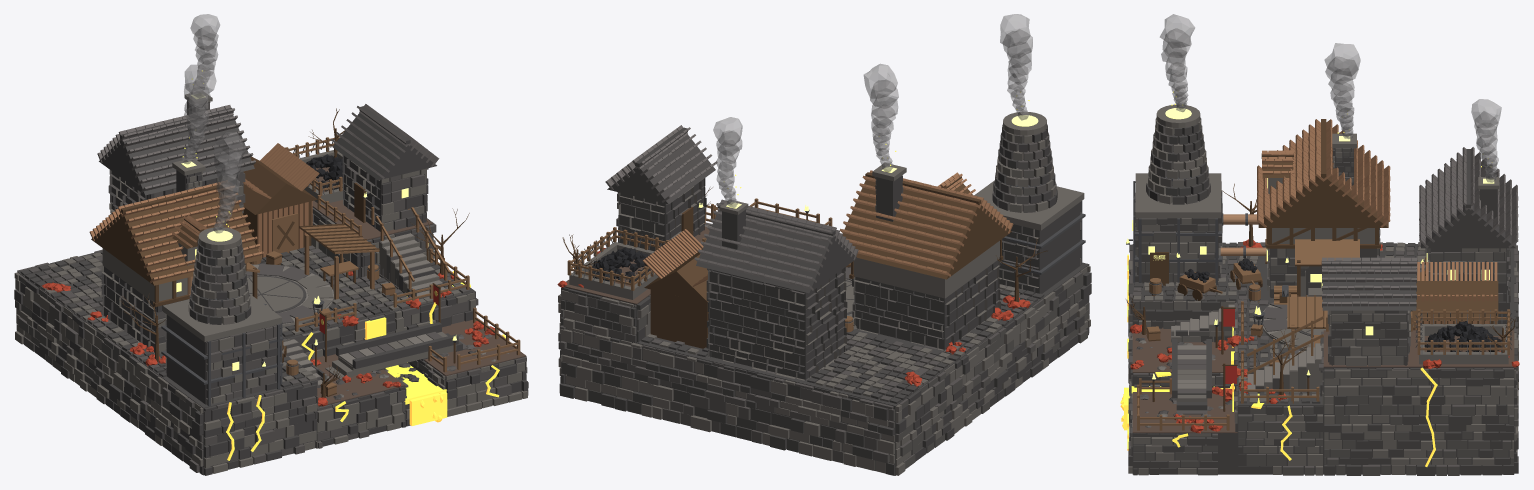
File: pueblo_fuego_diorama.glb
3 views of the same model, side by side, from view 1: azimuth 30°, elevation 25°; view 2: azimuth 150°, elevation 25°; view 3: azimuth 270°, elevation 25° (orthographic). The views are drawn at different scales.
Parts seen in each view (by area): view 1: Acantilados, Horno_Fundicion, Herreria_Techo, Empedrado, Casa_Piedra_Techo, Horno_Chimenea, Herreria, Terraza_Tierra, Torre_Techo, Torre_Plataforma, Puente_Piedra, Galpon_Techo (+20 smaller); view 2: Acantilados, Casa_Piedra, Herreria_Techo, Herreria, Casa_Piedra_Techo, Empedrado, Horno_Fundicion, Horno_Chimenea, Torre_Techo, Base_Roca, Torre_Plataforma, Galpon_Techo (+11 smaller); view 3: Acantilados, Herreria_Techo, Base_Roca, Horno_Fundicion, Casa_Piedra_Techo, Terraza_Tierra, Horno_Chimenea, Torre_Techo, Torre_Plataforma, Empedrado, Galpon_Techo, Herreria (+24 smaller).
Part boxes in pixels (x1,y1,x2,y2): Acantilados: (14,207,528,475); Horno_Fundicion: (161,293,283,406); Herreria_Techo: (89,180,263,285); Empedrado: (20,245,469,387); Casa_Piedra_Techo: (97,105,255,195); Horno_Chimenea: (188,227,251,324); Herreria: (101,248,246,353); Terraza_Tierra: (309,167,525,406); Torre_Techo: (331,104,439,180); Torre_Plataforma: (342,155,428,231); Puente_Piedra: (325,322,467,379); Galpon_Techo: (243,143,319,214); Acantilados: (558,224,1091,475); Casa_Piedra: (706,267,847,380); Herreria_Techo: (839,170,1013,279); Herreria: (849,239,1003,350); Casa_Piedra_Techo: (694,199,858,293); Empedrado: (641,222,1044,403); Horno_Fundicion: (974,180,1085,294); Horno_Chimenea: (992,112,1057,212); Torre_Techo: (605,125,717,204); Base_Roca: (561,225,1088,475); Torre_Plataforma: (616,178,706,251); Galpon_Techo: (642,229,708,303); Acantilados: (1128,242,1518,475); Herreria_Techo: (1257,119,1390,227); Base_Roca: (1132,244,1514,474); Horno_Fundicion: (1126,173,1222,285); Casa_Piedra_Techo: (1419,147,1518,248); Terraza_Tierra: (1132,327,1514,433); Horno_Chimenea: (1146,104,1210,204); Torre_Techo: (1321,257,1416,310); Torre_Plataforma: (1327,310,1410,366); Empedrado: (1133,242,1425,403); Galpon_Techo: (1412,262,1498,320); Herreria: (1265,228,1380,297).
Size of the model in its own units: 21.57 by 18.66 by 20.92.
